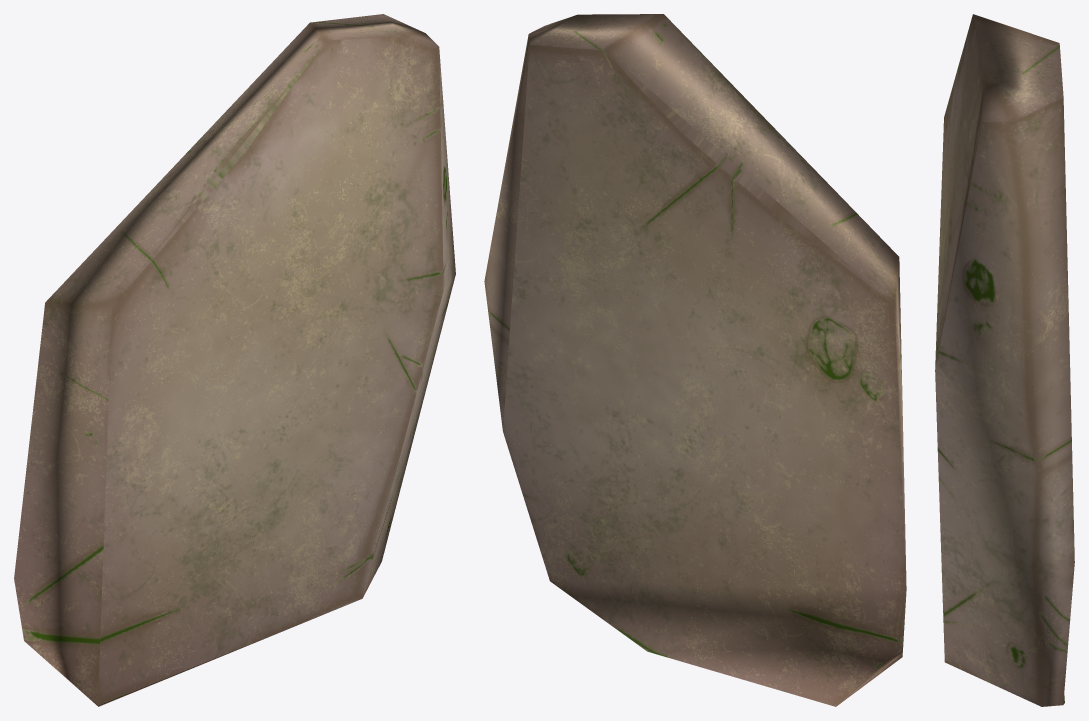
The model's file is Rune01_low_03.fbx.
The picture shows the model from 3 angles, left to right: view 1: azimuth 30°, elevation 25°; view 2: azimuth 150°, elevation 25°; view 3: azimuth 270°, elevation 25°; orthographic projection. The views are drawn at different scales.
Parts seen in each view (by area): view 1: Rune_01_low_03; view 2: Rune_01_low_03; view 3: Rune_01_low_03.
Part boxes in pixels (x1,y1,x2,y2): Rune_01_low_03: (14, 14, 455, 706); Rune_01_low_03: (484, 14, 906, 706); Rune_01_low_03: (935, 14, 1074, 706).
Size of the model in its own units: 1.42 by 1.98 by 0.3442.
Materials: 1 (1 with a texture image).
